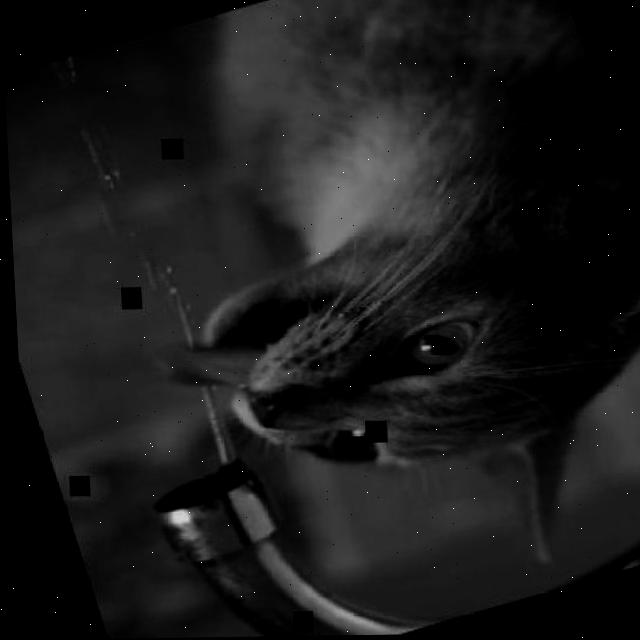Cat: (47, 0, 640, 637)
